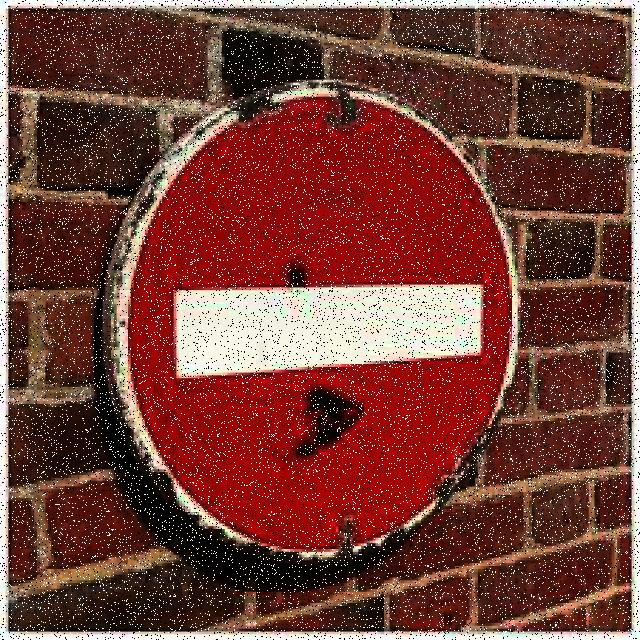no entry: (128, 94, 509, 549)
